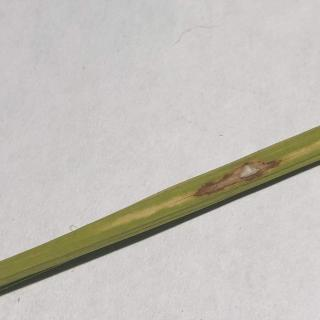Blast: (198, 153, 292, 206)
